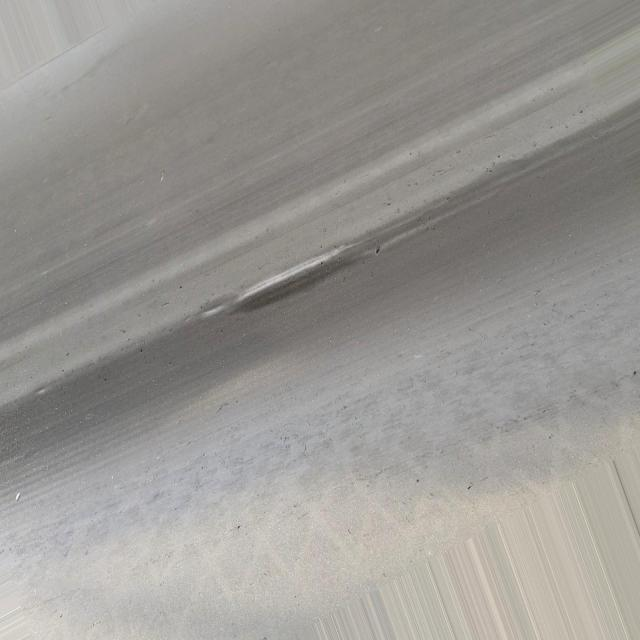Impact Damage: (190, 222, 375, 316)
